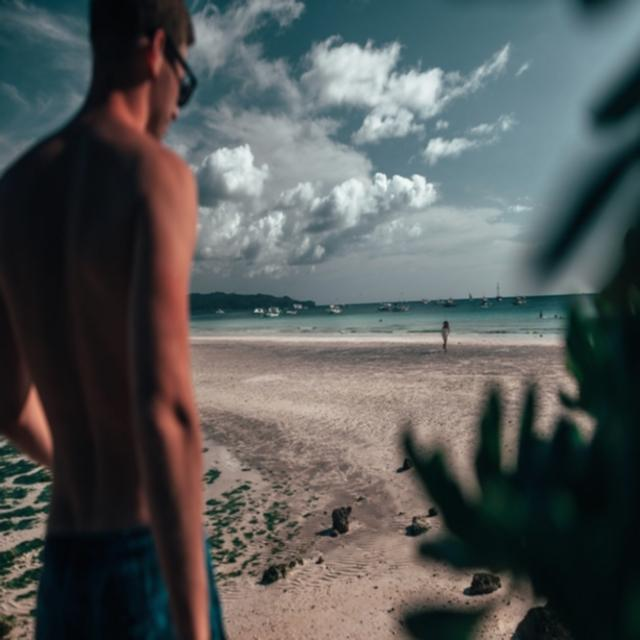piel: (0, 37, 211, 640)
